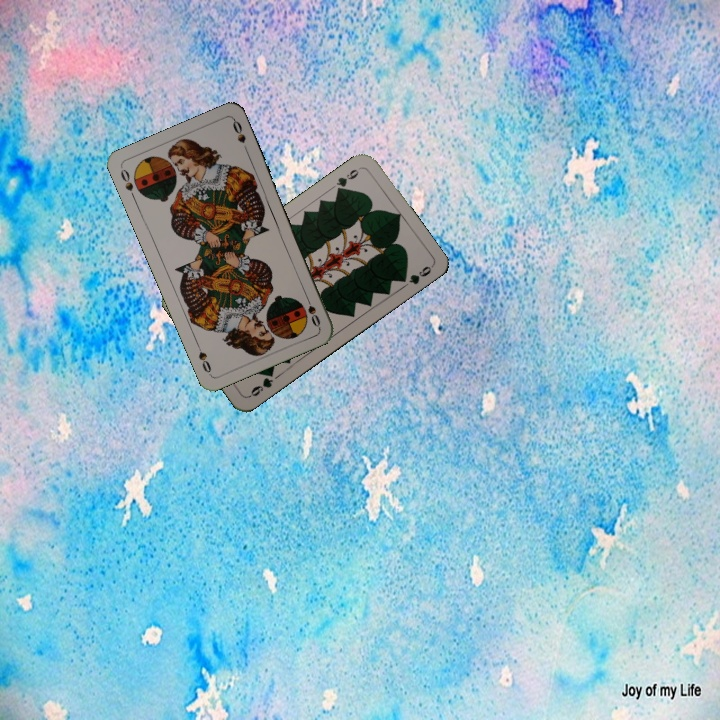G9: (245, 366, 276, 400), (332, 165, 361, 196)
SO: (301, 290, 323, 330), (116, 165, 139, 203)
